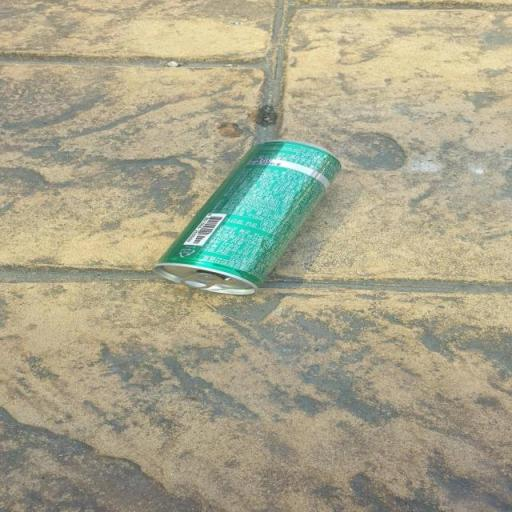metal: (128, 131, 351, 317)
